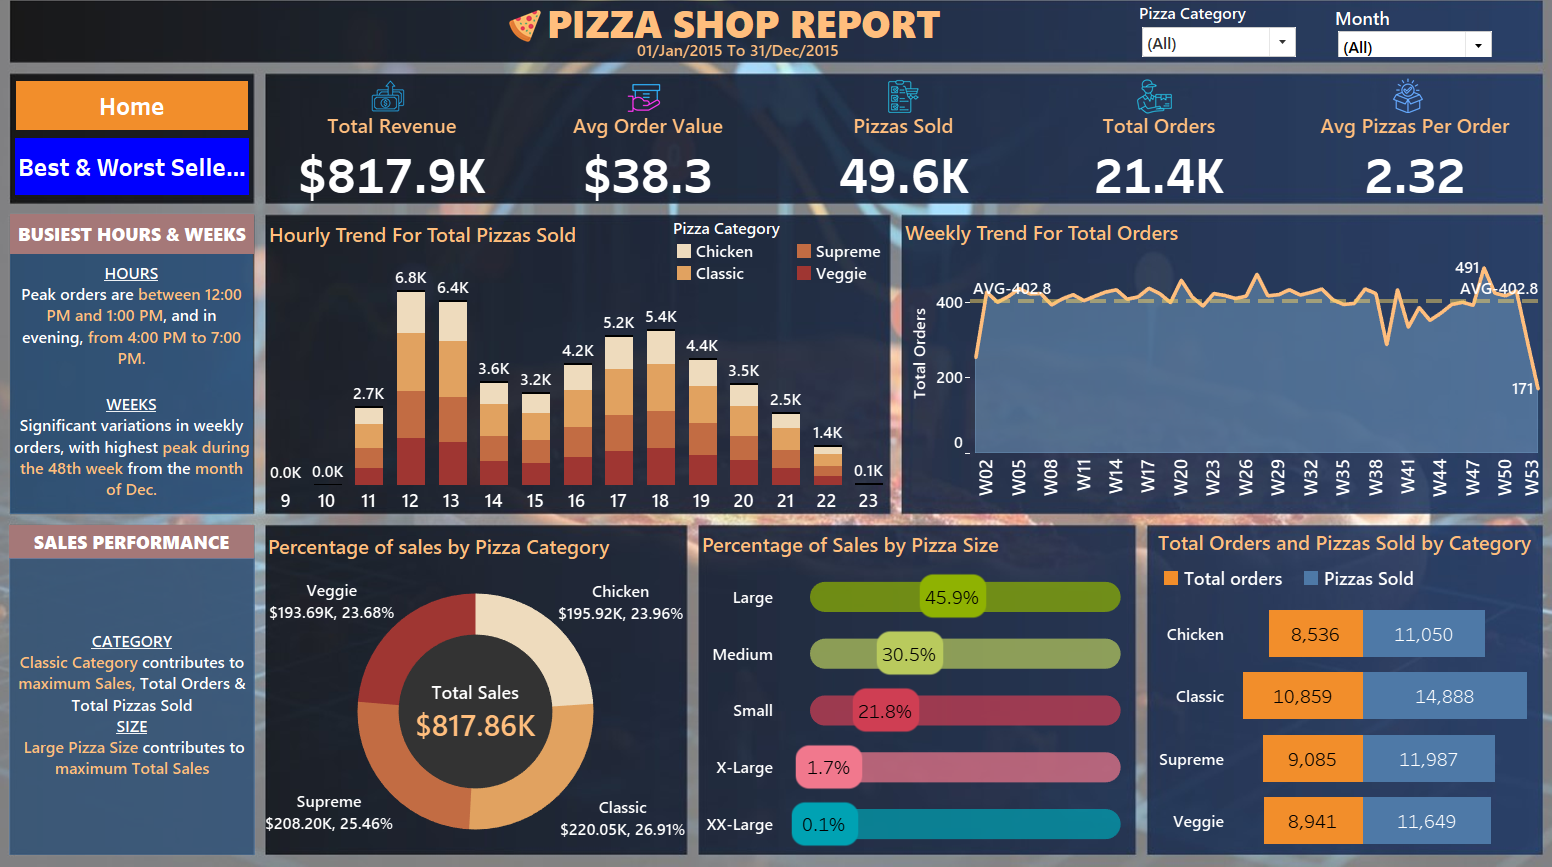

The dashboard page shown, as its layout file describes it:
{"tool":"tableau","page":{"name":"Home","canvas":[1600,900],"ordinal":1},"visuals":[{"type":"image","param":"C:/Users/AJAY BANGAR/Downloads/drive-download-20240827T113139Z-001/Pizza Tableau","box":[8,8,1584,884]},{"type":"text","box":[566,18,409,51]},{"type":"filter","title":"Hourly Trend For Total Pizzas Sold","param":"[federated.115mkf80ngbwbw100ufel0gcpnx0].[none:pizza_category:nk]","box":[1162,23,160,58]},{"type":"filter","title":"Percentage of sales by Pizza Category","param":"[federated.115mkf80ngbwbw100ufel0gcpnx0].[mn:order_date:ok]","box":[1358,27,160,51]},{"type":"image","param":"C:/Users/AJAY BANGAR/Downloads/drive-download-20240827T113139Z-001/Pizza Sales I","box":[526,30,43,33]},{"type":"worksheet","title":"Date Range","mark":"Automatic","box":[567,62,387,18]},{"type":"image","param":"C:/Users/AJAY BANGAR/Downloads/drive-download-20240827T113139Z-001/Pizza Sales I","box":[375,98,71,37]},{"type":"image","param":"C:/Users/AJAY BANGAR/Downloads/drive-download-20240827T113139Z-001/Pizza Sales I","box":[909,99,34,36]},{"type":"image","param":"C:/Users/AJAY BANGAR/Downloads/drive-download-20240827T113139Z-001/Pizza Sales I","box":[1159,99,36,37]},{"type":"image","param":"C:/Users/AJAY BANGAR/Downloads/drive-download-20240827T113139Z-001/Pizza Sales I","box":[1411,99,39,35]},{"type":"image","param":"C:/Users/AJAY BANGAR/Downloads/drive-download-20240827T113139Z-001/Pizza Sales I","box":[645,100,44,37]},{"type":"dashboard-object","box":[39,102,232,49]},{"type":"worksheet","title":"KPI Banner","mark":"Automatic","box":[287,130,1279,95]},{"type":"dashboard-object","box":[38,159,234,57]},{"type":"text","box":[33,235,244,40]},{"type":"worksheet","title":"Weekly Trend For Total Orders","mark":"Area","rows":["Calculation_289919281632256001","Calculation_289919281632256001"],"cols":["order_date"],"box":[924,235,642,299]},{"type":"worksheet","title":"Hourly Trend For Total Pizzas Sold","mark":"Bar","rows":["Calculation_289919281632808963","Calculation_289919281632808963"],"cols":["order_time"],"box":[288,237,625,297]},{"type":"legend","title":"Hourly Trend For Total Pizzas Sold","param":"[federated.115mkf80ngbwbw100ufel0gcpnx0].[none:pizza_category:nk]","box":[696,238,257,80]},{"type":"text","box":[33,275,243,260]},{"type":"text","box":[32,546,245,34]},{"type":"worksheet","title":"Percentage of Sales by Pizza Size","mark":"Line","rows":["pizza_size"],"box":[721,547,437,326]},{"type":"text","box":[1172,548,391,30]},{"type":"worksheet","title":"Percentage of sales by Pizza Category","mark":"Pie","cols":["Calculation_289919281659998214","Calculation_289919281659998214"],"box":[287,549,423,325]},{"type":"text","box":[32,579,246,297]},{"type":"worksheet","title":"Total Orders and Pizzas Sold by Category","mark":"Automatic","rows":["pizza_category"],"box":[1172,623,392,250]}]}

Visuals, with their boxes in screenshot pixels (x1, y1, x2, y2), scaled from the page's 1600x900 canvas onto the 1552x867 screenshot:
image: rect(8, 8, 1544, 859)
text: rect(549, 17, 946, 66)
"Hourly Trend For Total Pizzas Sold" filter: rect(1127, 22, 1282, 78)
"Percentage of sales by Pizza Category" filter: rect(1317, 26, 1472, 75)
image: rect(510, 29, 552, 61)
"Date Range" worksheet: rect(550, 60, 925, 77)
image: rect(364, 94, 433, 130)
image: rect(882, 95, 915, 130)
image: rect(1124, 95, 1159, 131)
image: rect(1369, 95, 1406, 129)
image: rect(626, 96, 668, 132)
dashboard-object: rect(38, 98, 263, 145)
"KPI Banner" worksheet: rect(278, 125, 1519, 217)
dashboard-object: rect(37, 153, 264, 208)
text: rect(32, 226, 269, 265)
"Weekly Trend For Total Orders" worksheet (Area marks): rect(896, 226, 1519, 514)
"Hourly Trend For Total Pizzas Sold" worksheet (Bar marks): rect(279, 228, 886, 514)
"Hourly Trend For Total Pizzas Sold" legend: rect(675, 229, 924, 306)
text: rect(32, 265, 268, 515)
text: rect(31, 526, 269, 559)
"Percentage of Sales by Pizza Size" worksheet (Line marks): rect(699, 527, 1123, 841)
text: rect(1137, 528, 1516, 557)
"Percentage of sales by Pizza Category" worksheet (Pie marks): rect(278, 529, 689, 842)
text: rect(31, 558, 270, 844)
"Total Orders and Pizzas Sold by Category" worksheet: rect(1137, 600, 1517, 841)
